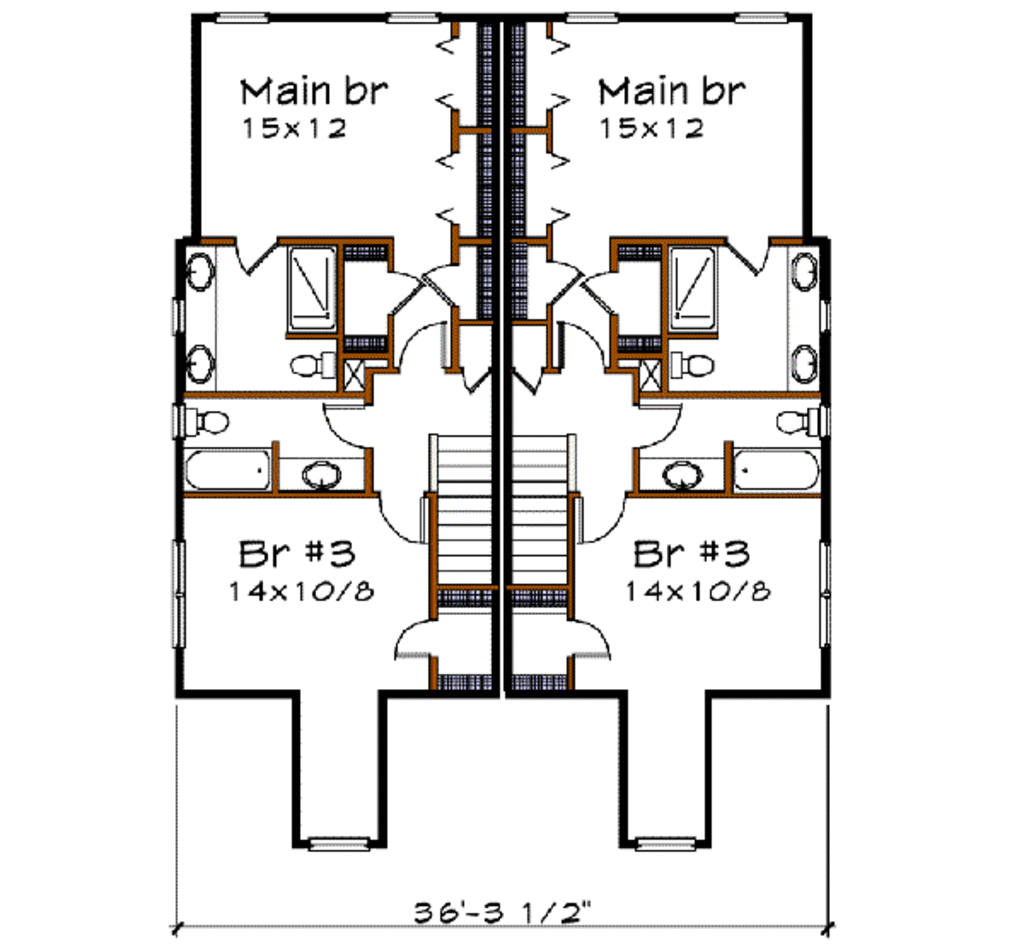door: (389, 317, 452, 376), (317, 395, 380, 454), (626, 388, 682, 451), (571, 494, 632, 544), (554, 319, 605, 373), (380, 495, 427, 544), (423, 261, 464, 316), (726, 227, 770, 277), (555, 617, 608, 655), (383, 613, 429, 655), (579, 267, 616, 319), (545, 260, 583, 310), (388, 267, 427, 308)
large_sink: (764, 396, 830, 439), (176, 401, 238, 442), (667, 341, 723, 383), (285, 342, 335, 380)
small_sink: (171, 238, 221, 389), (770, 238, 814, 394), (618, 446, 723, 496), (270, 452, 364, 488)
stairs: (423, 432, 507, 592), (510, 429, 570, 607)
tub: (727, 446, 832, 499), (182, 446, 271, 489)
window: (808, 536, 839, 652), (166, 542, 192, 652), (635, 835, 701, 860), (377, 7, 439, 30), (211, 2, 268, 27), (560, 4, 618, 27), (729, 5, 783, 27), (305, 832, 373, 846)
